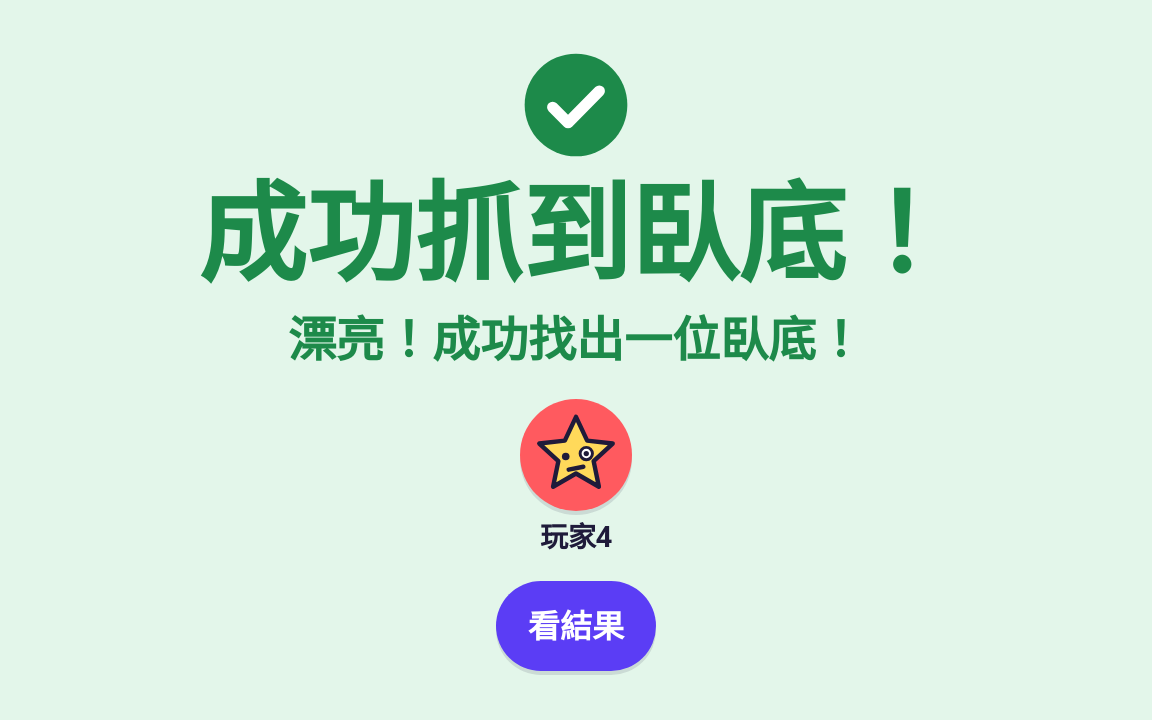
Test: HostFinished screen › plays the reveal first when the last elimination ends the game
Expected: the heading "成功抓到臥底！" is shown, [198,173,954,291]
Expected: the text "蘋果" is not shown
What coordinates should you click on to do the following:
click the button "看結果"
I would click on:
 (576, 626)
Its box is [496,581,656,671].
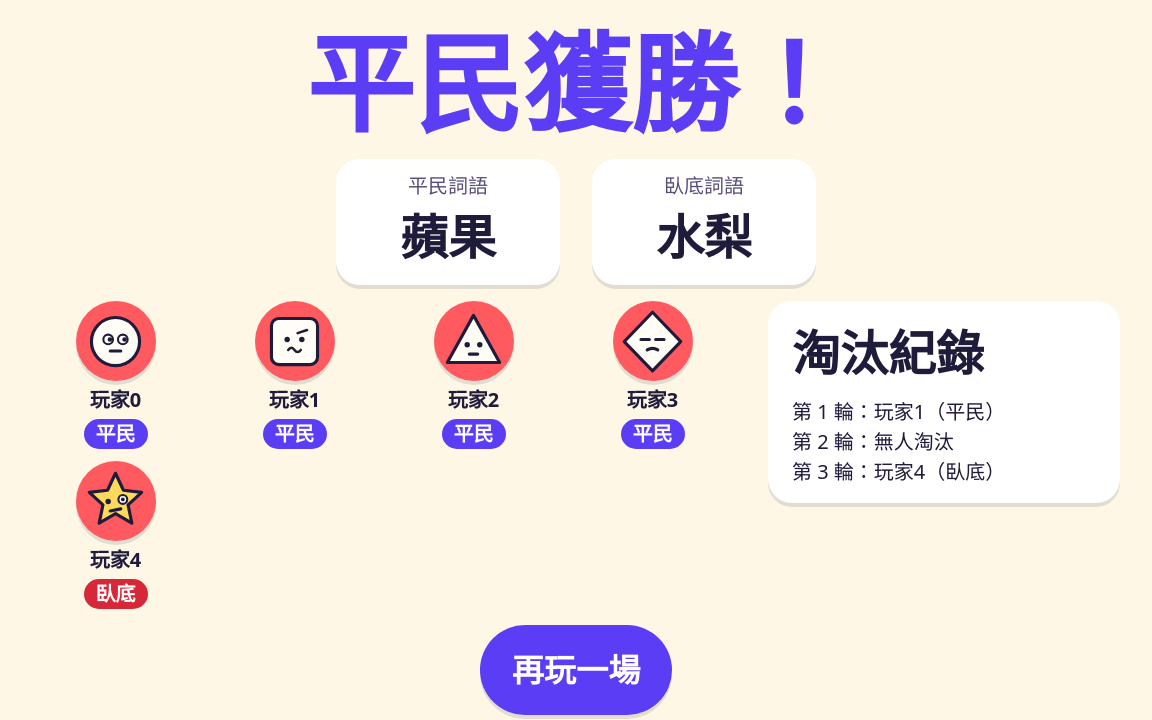
Now the text "蘋果" is shown, box [400,204,496,269]
